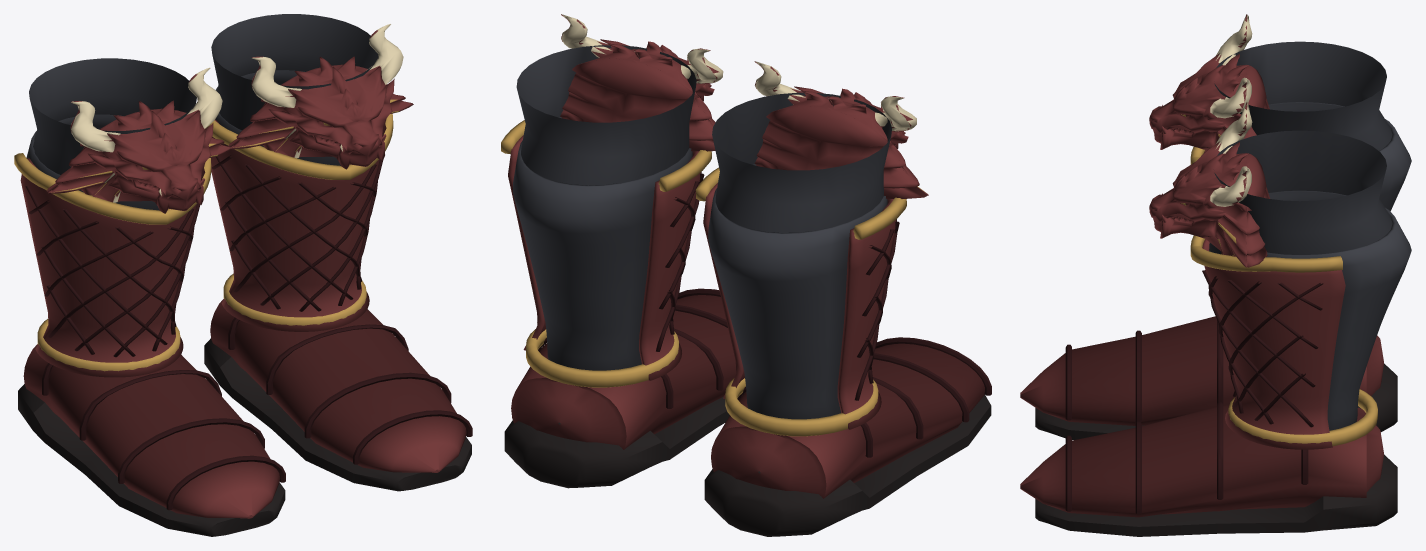
The model's file is f_dragonknight_d.glb.
3 views of the same model, side by side, from view 1: azimuth 30°, elevation 25°; view 2: azimuth 150°, elevation 25°; view 3: azimuth 270°, elevation 25° (orthographic). The views are drawn at different scales.
Parts seen in each view (by area): view 1: LegR_Boot, LegL_Boot, LegR_BootFoot, LegL_BootFoot; view 2: LegR_Boot, LegL_Boot, LegR_BootFoot, LegL_BootFoot; view 3: LegL_Boot, LegL_BootFoot, LegR_Boot, LegR_BootFoot.
Boxes of the visible parts, x1,y1,x2,y2 form: LegR_Boot: (14, 58, 231, 377); LegL_Boot: (206, 14, 413, 331); LegR_BootFoot: (18, 344, 285, 536); LegL_BootFoot: (204, 299, 472, 491); LegR_Boot: (695, 61, 928, 436); LegL_Boot: (501, 14, 723, 387); LegR_BootFoot: (704, 337, 991, 536); LegL_BootFoot: (504, 288, 745, 488); LegL_Boot: (1149, 102, 1411, 449); LegL_BootFoot: (1020, 402, 1397, 536); LegR_Boot: (1149, 14, 1411, 211); LegR_BootFoot: (1020, 316, 1397, 439).
Bounding box in the file's own units: 0.4324 × 0.4178 × 0.4004.
